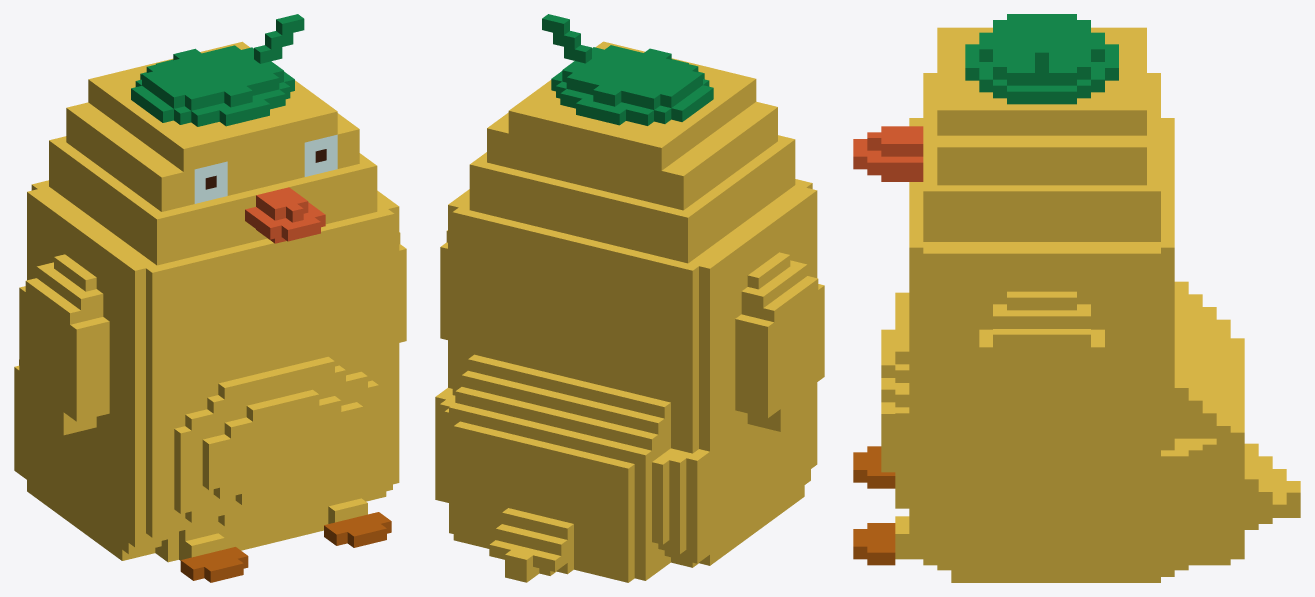
Rendered from Char_Monster_Lemon.obj.
3 renders of one model, left to right at view 1: azimuth 30°, elevation 25°; view 2: azimuth 150°, elevation 25°; view 3: azimuth 270°, elevation 25°, orthographic. The views are drawn at different scales.
Visible parts, largest first — view 1: Char_Monster_Lemon; view 2: Char_Monster_Lemon; view 3: Char_Monster_Lemon.
Part boxes in pixels (box(x1,y1,x2,y2)): Char_Monster_Lemon: box(14, 14, 406, 582); Char_Monster_Lemon: box(435, 14, 824, 582); Char_Monster_Lemon: box(853, 14, 1300, 582).
Size of the model in its own units: 3 by 4 by 3.2.
Materials: 1 (1 with a texture image).
